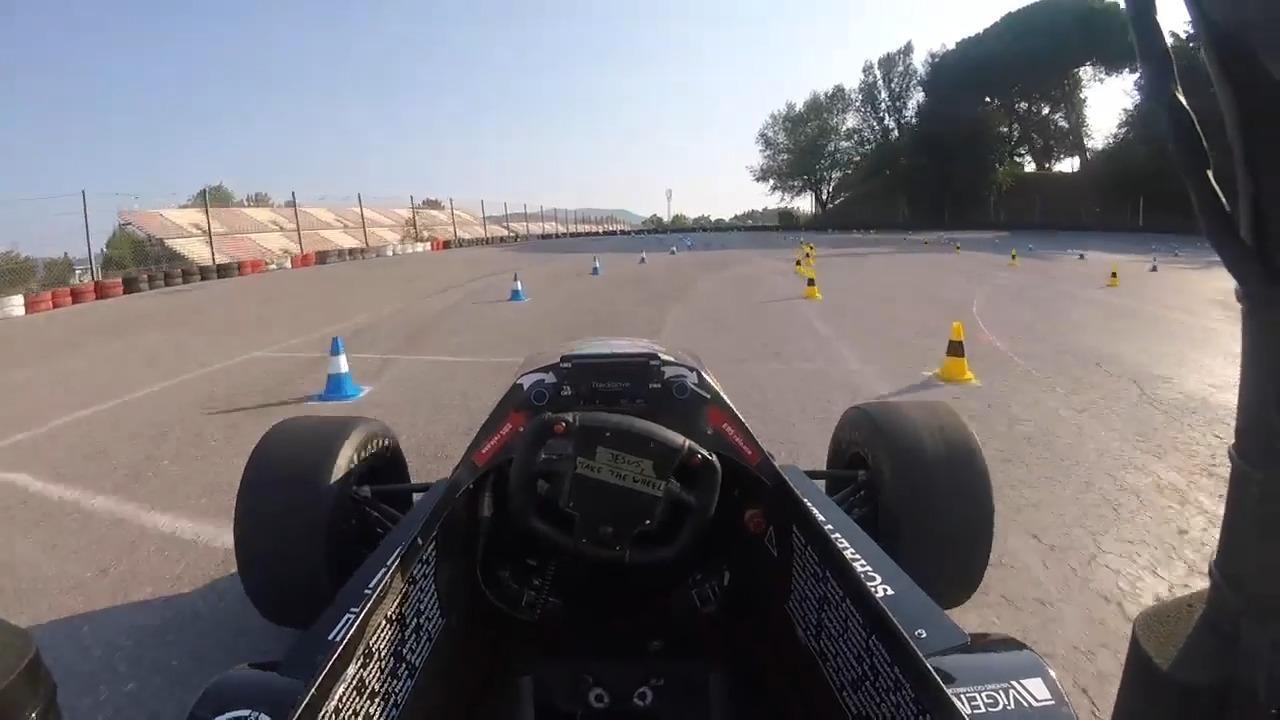blue_cone: (316, 331, 362, 403), (503, 268, 526, 305), (588, 253, 601, 276), (1150, 255, 1162, 274), (637, 245, 647, 264), (667, 243, 678, 256)
yellow_cone: (927, 320, 974, 385), (801, 268, 822, 302), (1104, 263, 1119, 288), (792, 256, 805, 275), (1008, 247, 1019, 268), (803, 248, 813, 268), (809, 243, 816, 259)
